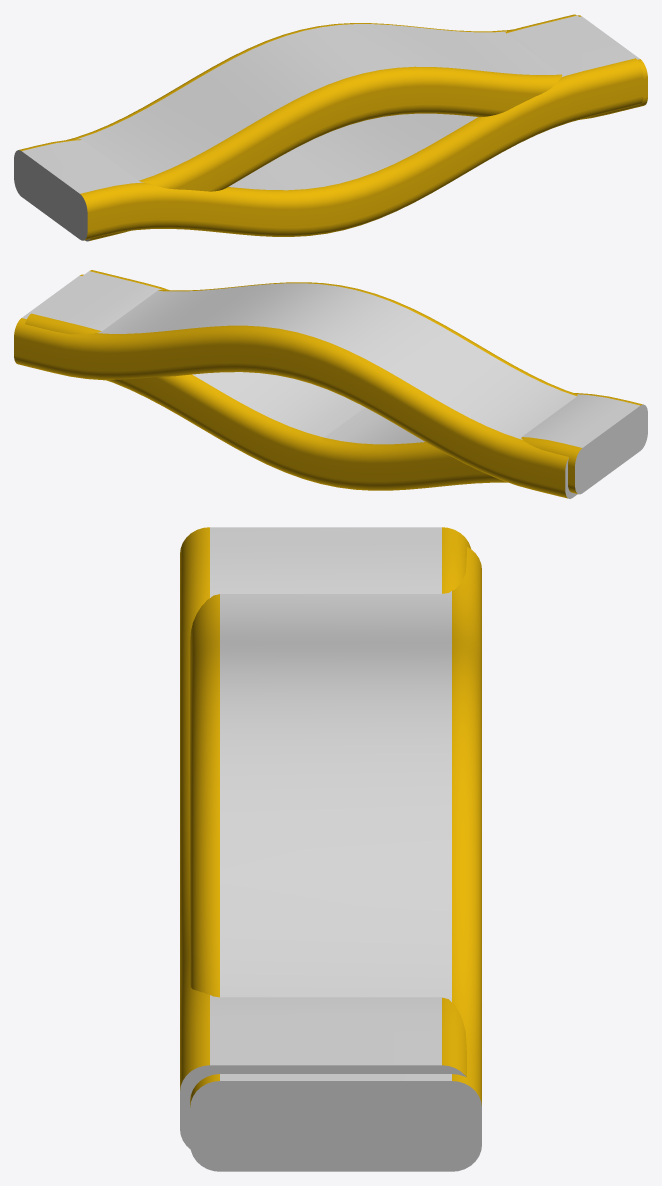
The model's file is Slide.fbx.
3 renders of one model, top to bottom at view 1: azimuth 30°, elevation 25°; view 2: azimuth 150°, elevation 25°; view 3: azimuth 270°, elevation 25°, orthographic. The views are drawn at different scales.
Visible parts, largest first — view 1: roads.003, roads.001; view 2: roads.001, roads.003; view 3: roads.001, roads.003.
Part boxes in pixels (left/top/right/bottom): roads.003: left=14, top=14, right=643, bottom=240; roads.001: left=67, top=15, right=647, bottom=241; roads.001: left=14, top=274, right=577, bottom=498; roads.003: left=25, top=270, right=647, bottom=494; roads.001: left=190, top=547, right=481, bottom=1171; roads.003: left=180, top=527, right=470, bottom=1149.
Bounding box in the file's own units: 1299 × 326 × 304.
